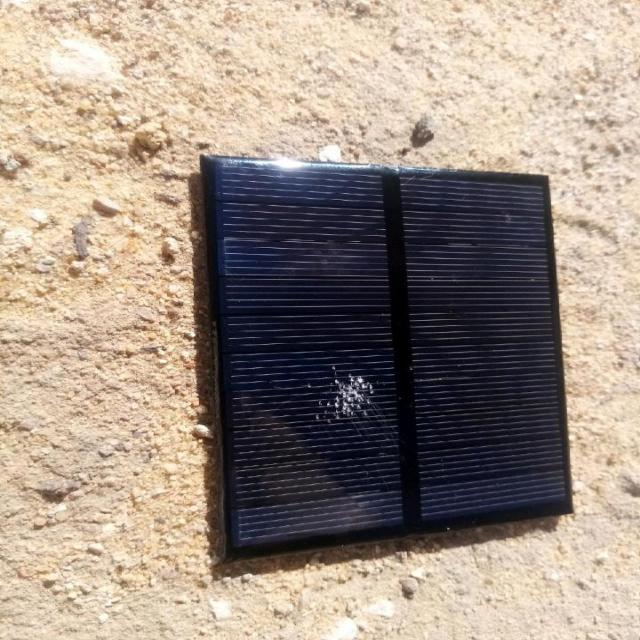faulty: (213, 168, 564, 560)
